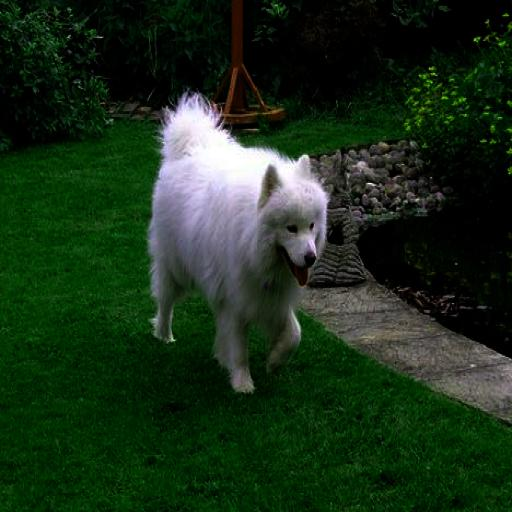dog_face: (252, 157, 331, 286)
